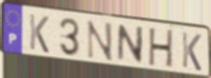3: (58, 17, 81, 58)
H: (147, 27, 176, 70)
K: (181, 31, 203, 73), (28, 13, 50, 55)
N: (86, 19, 115, 63), (116, 23, 146, 65)
